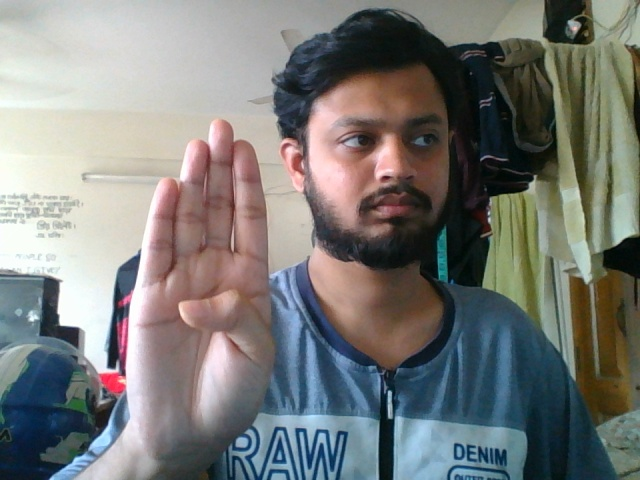ba: (120, 112, 284, 474)
